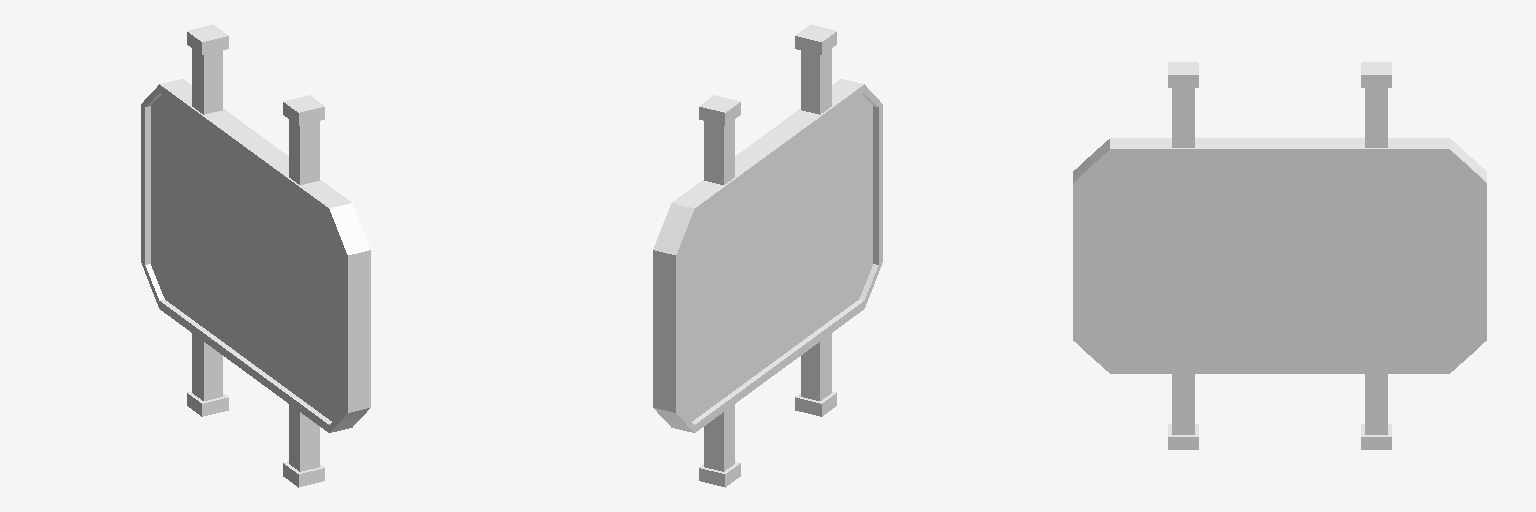
File: sign.obj
3 views of the same model, side by side, from view 1: azimuth 30°, elevation 25°; view 2: azimuth 150°, elevation 25°; view 3: azimuth 270°, elevation 25° (orthographic).
Parts seen in each view (by area): view 1: front, sign, feetTop, feetBottom; view 2: front, sign, feetTop, feetBottom; view 3: sign, feetTop, feetBottom.
Part boxes in pixels (x1,y1,x2,y2): front: (152, 96, 342, 418); sign: (141, 79, 370, 432); feetTop: (187, 24, 324, 184); feetBottom: (187, 333, 324, 487); front: (681, 96, 871, 418); sign: (653, 79, 882, 432); feetTop: (699, 24, 836, 184); feetBottom: (699, 333, 836, 487); sign: (1073, 138, 1486, 373); feetTop: (1168, 62, 1391, 147); feetBottom: (1168, 374, 1391, 449).
Bounding box in the file's own units: 0.075 × 1 × 1.